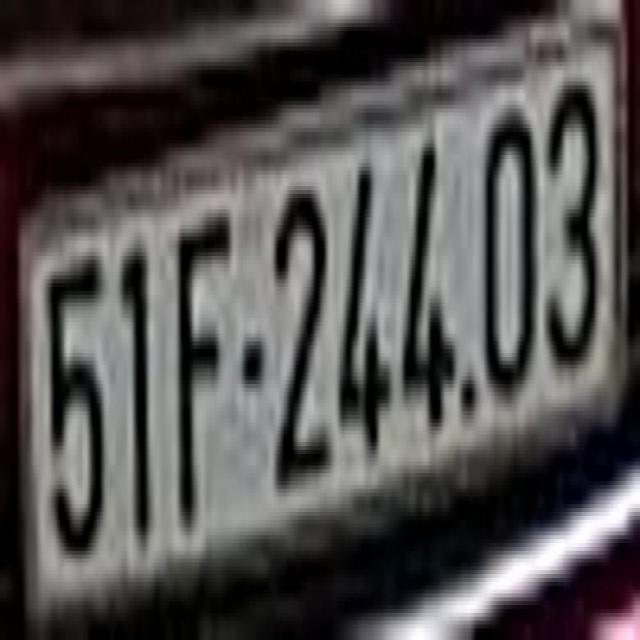0: (484, 97, 538, 423)
1: (118, 221, 155, 555)
2: (272, 163, 334, 512)
3: (542, 73, 598, 384)
4: (336, 162, 394, 474), (401, 144, 459, 442)
5: (47, 244, 107, 558)
F: (176, 209, 232, 532)
